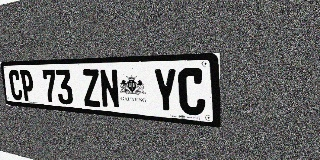3: (55, 69, 73, 105)
7: (41, 70, 58, 104)
C: (178, 68, 206, 116), (8, 70, 23, 101)
N: (99, 69, 120, 109)
P: (19, 70, 35, 102)
Y: (152, 68, 178, 114)
Z: (81, 69, 101, 107)
